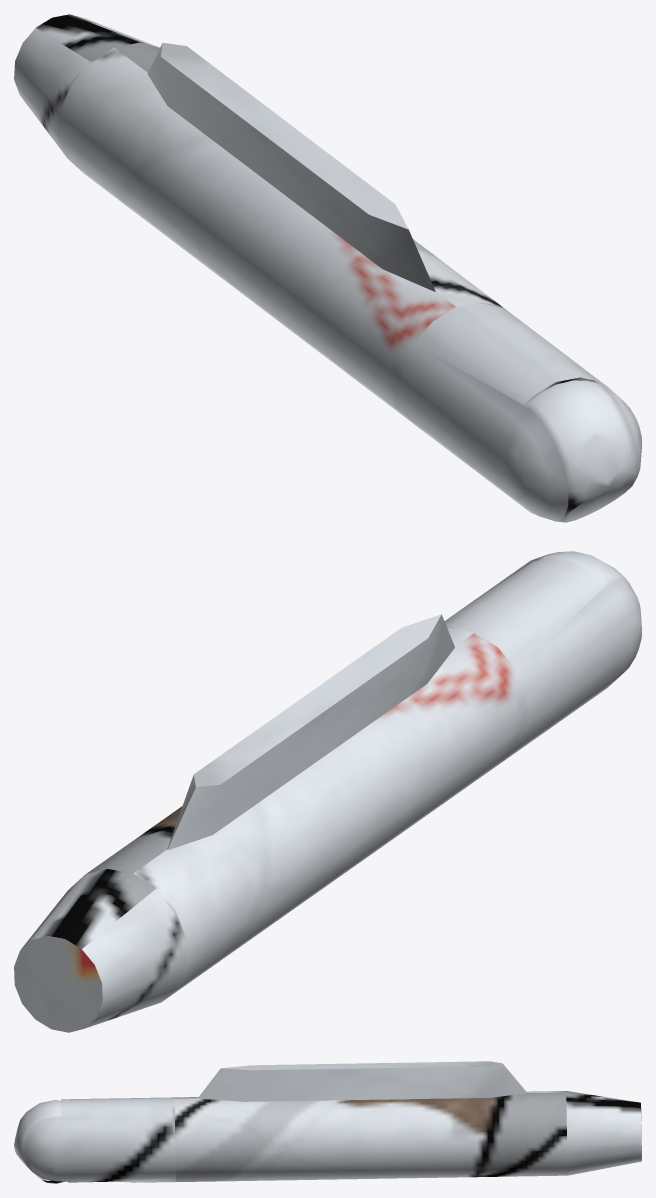
The model's file is KAD03A.obj.
3 views of the same model, one above another, from view 1: azimuth 30°, elevation 25°; view 2: azimuth 150°, elevation 25°; view 3: azimuth 270°, elevation 25° (orthographic). The views are drawn at different scales.
Visible parts, largest first — view 1: JH7A2; view 2: JH7A2; view 3: JH7A2.
Part boxes in pixels (bbox=[...]): JH7A2: bbox=[14, 14, 641, 522]; JH7A2: bbox=[14, 551, 641, 1032]; JH7A2: bbox=[14, 1061, 641, 1183].
Bounding box in the file's own units: 0.4258 × 0.6143 × 3.12.
